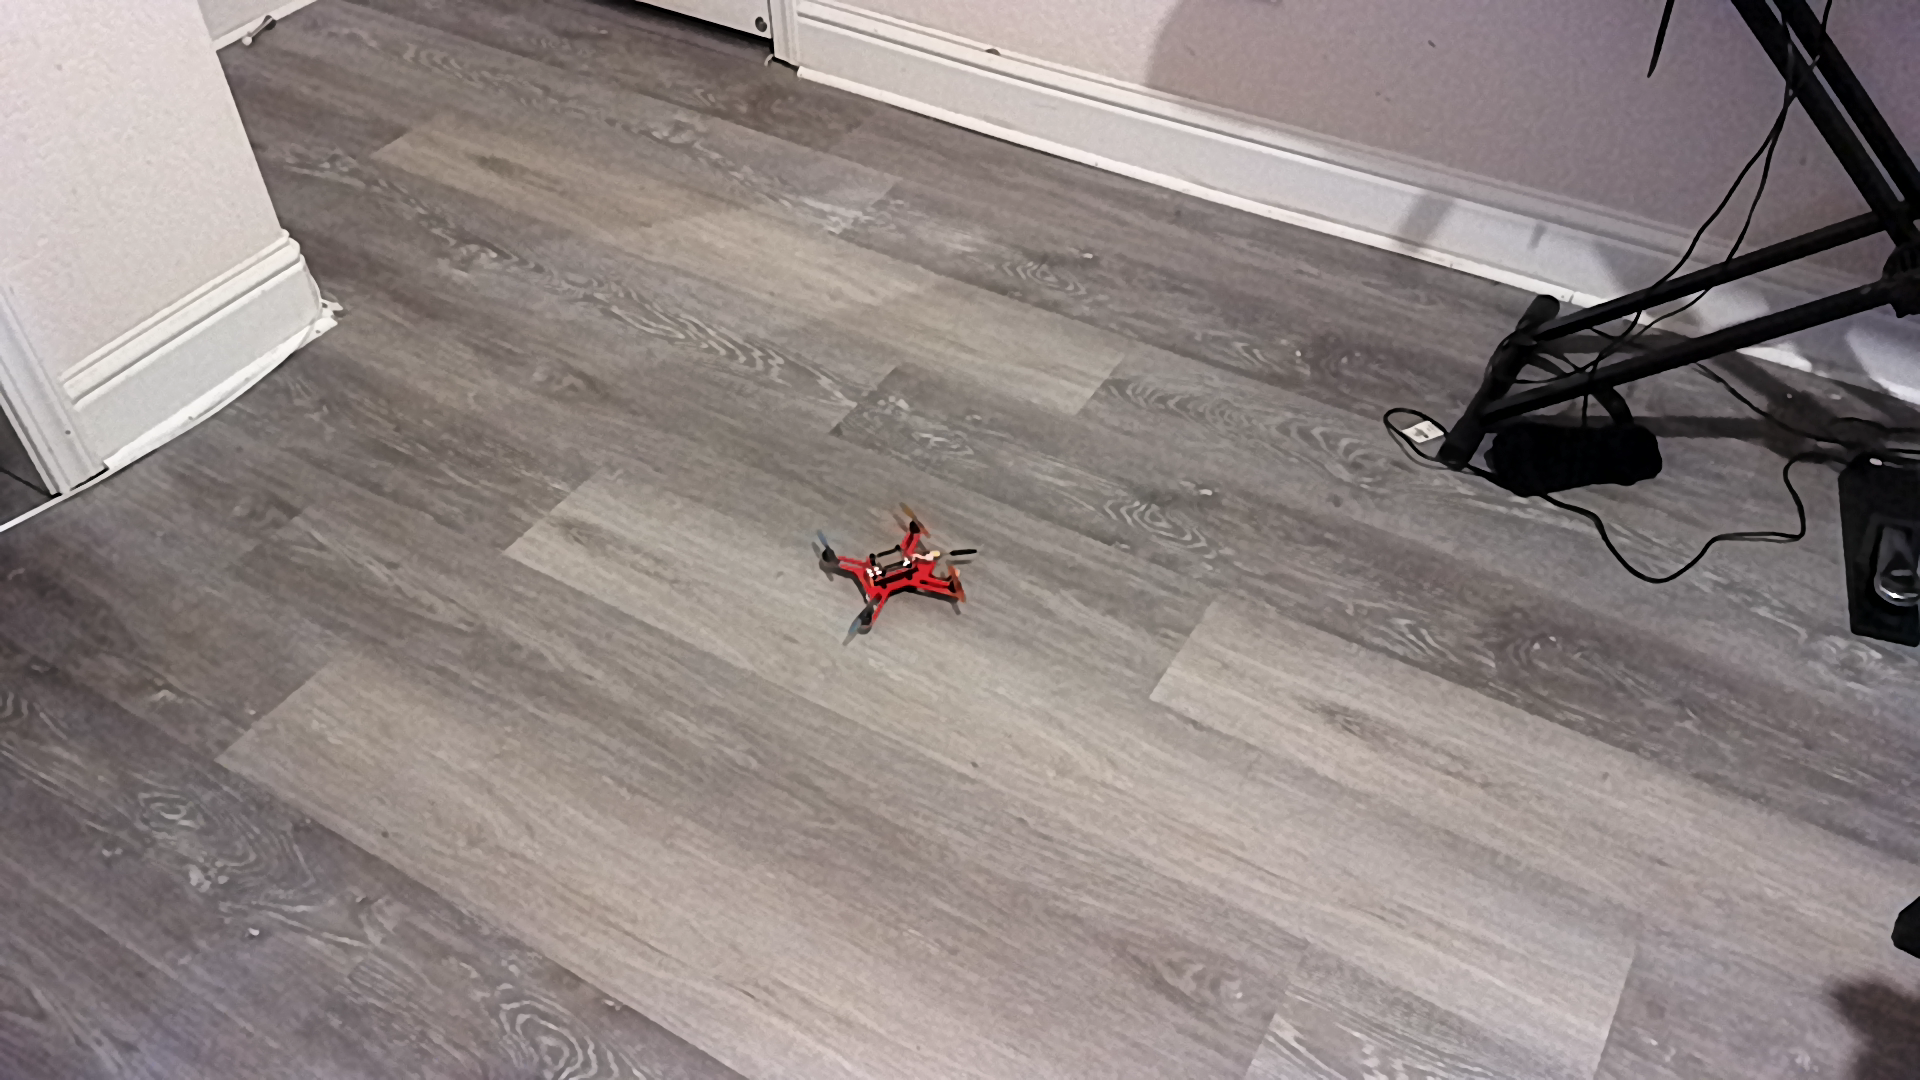drone: (811, 498, 1000, 659)
